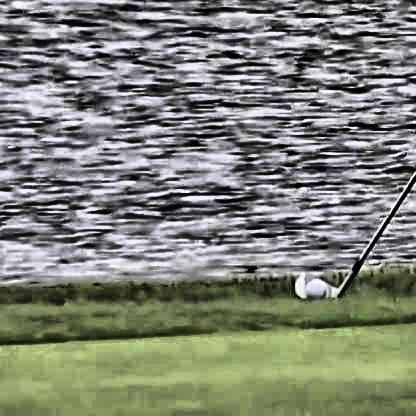golfball: (299, 278, 329, 300)
